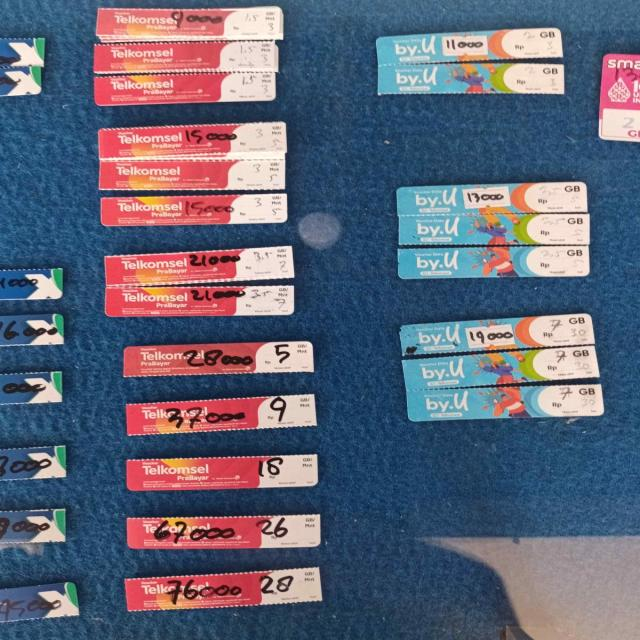Axis: (4, 584, 82, 624), (0, 35, 45, 96), (2, 509, 68, 545), (1, 268, 66, 301), (4, 448, 66, 481), (0, 372, 61, 403), (3, 314, 61, 346)
Telkomsel: (124, 567, 329, 612), (121, 394, 325, 436), (122, 512, 326, 551), (101, 245, 298, 284), (121, 339, 316, 378), (99, 284, 303, 319), (128, 455, 320, 492), (96, 160, 288, 193), (96, 124, 288, 157), (96, 5, 282, 39), (92, 42, 279, 73), (92, 74, 278, 103), (97, 197, 290, 223)
byu: (396, 380, 612, 422), (400, 343, 609, 385), (398, 312, 598, 355), (396, 180, 590, 217), (377, 60, 567, 97), (376, 27, 567, 60), (396, 217, 592, 249), (394, 249, 592, 279)
smartfren: (602, 50, 640, 140)
